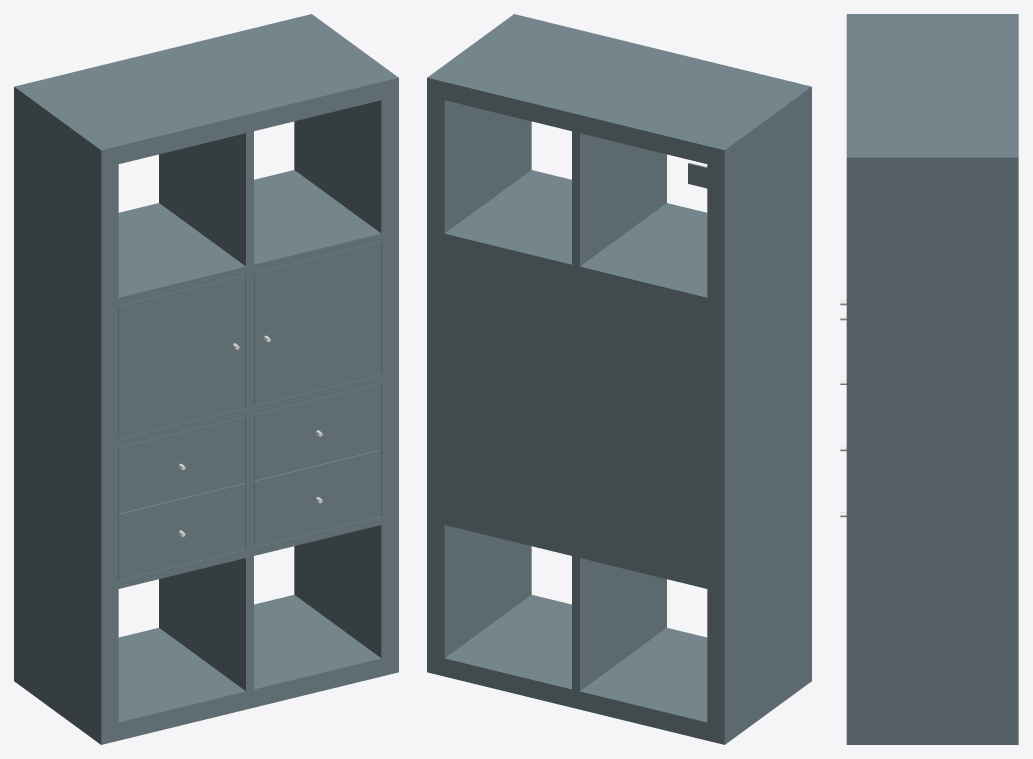
The model's file is KALLAX_Shelf_with_4_Accessories_Shiny_Turquoise_gray_Vertical.obj.
The picture shows the model from 3 angles, left to right: view 1: azimuth 30°, elevation 25°; view 2: azimuth 150°, elevation 25°; view 3: azimuth 270°, elevation 25°; orthographic projection.
Parts seen in each view (by area): view 1: Generic_Models; view 2: Generic_Models; view 3: Generic_Models.
Boxes of the visible parts, x1=… form: Generic_Models: x1=14, y1=14, x2=398, y2=744; Generic_Models: x1=427, y1=14, x2=811, y2=744; Generic_Models: x1=840, y1=14, x2=1018, y2=744.
Size of the model in its own units: 770 by 1470 by 405.
